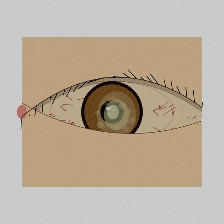corneal_ulcer: (92, 95, 141, 135)
